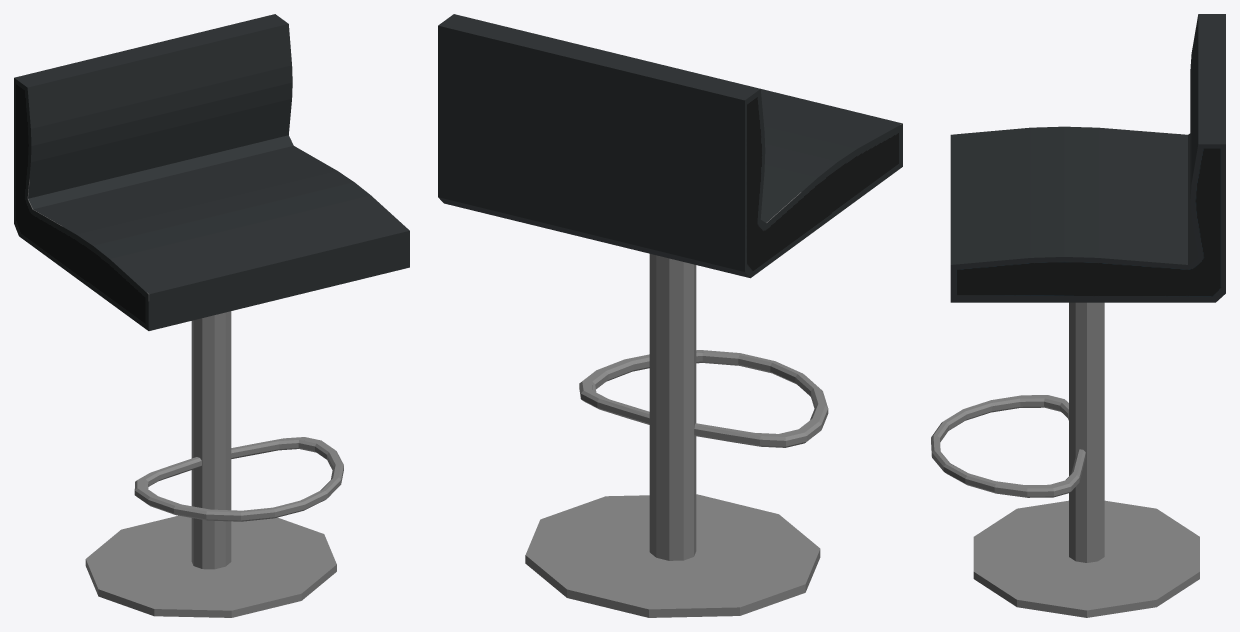
The model's file is Asset_BarStool.fbx.
3 renders of one model, left to right at view 1: azimuth 30°, elevation 25°; view 2: azimuth 150°, elevation 25°; view 3: azimuth 270°, elevation 25°, orthographic. The views are drawn at different scales.
Parts seen in each view (by area): view 1: Stool; view 2: Stool; view 3: Stool.
Part boxes in pixels (left/top/right/bottom): Stool: left=14, top=14, right=409, bottom=617; Stool: left=438, top=14, right=902, bottom=617; Stool: left=931, top=14, right=1225, bottom=617.
Bounding box in the file's own units: 0.4278 × 0.74 × 0.4093.
